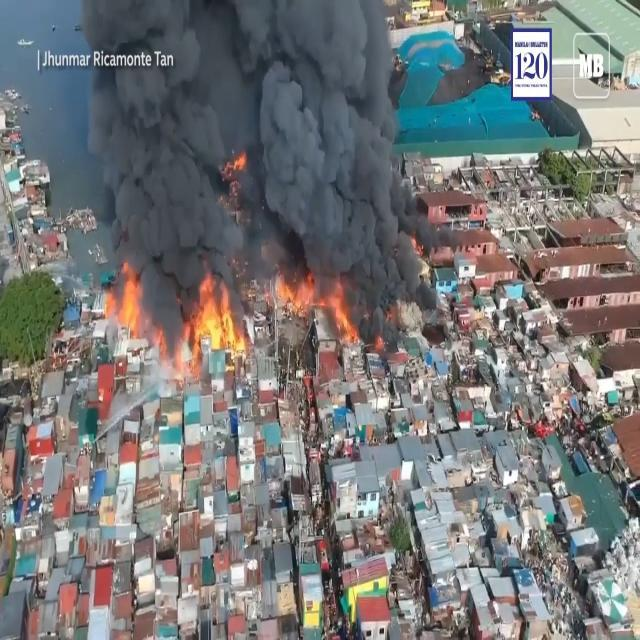Fire: (182, 266, 243, 372), (102, 256, 144, 347), (323, 276, 364, 354), (276, 274, 314, 324), (222, 146, 252, 182)
Smoke: (78, 0, 444, 363)
